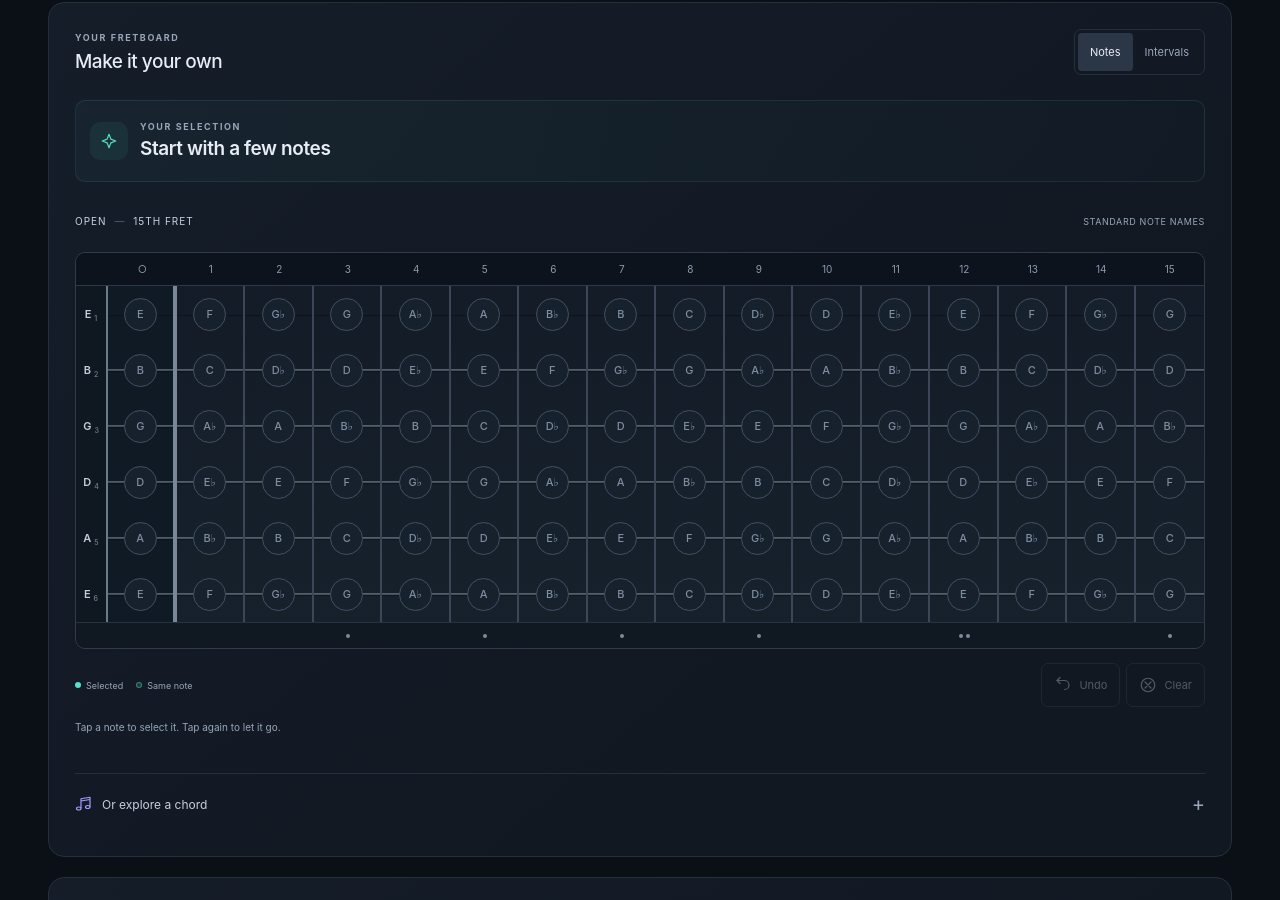
Test case: OS reduced motion prevents GPU initialization while chord selection still works
This screenshot has width=1280, height=900.
(page scrolled)
Click the button named "String 5, A, fret 3, C". click: (348, 538)
box: [314, 510, 382, 566]
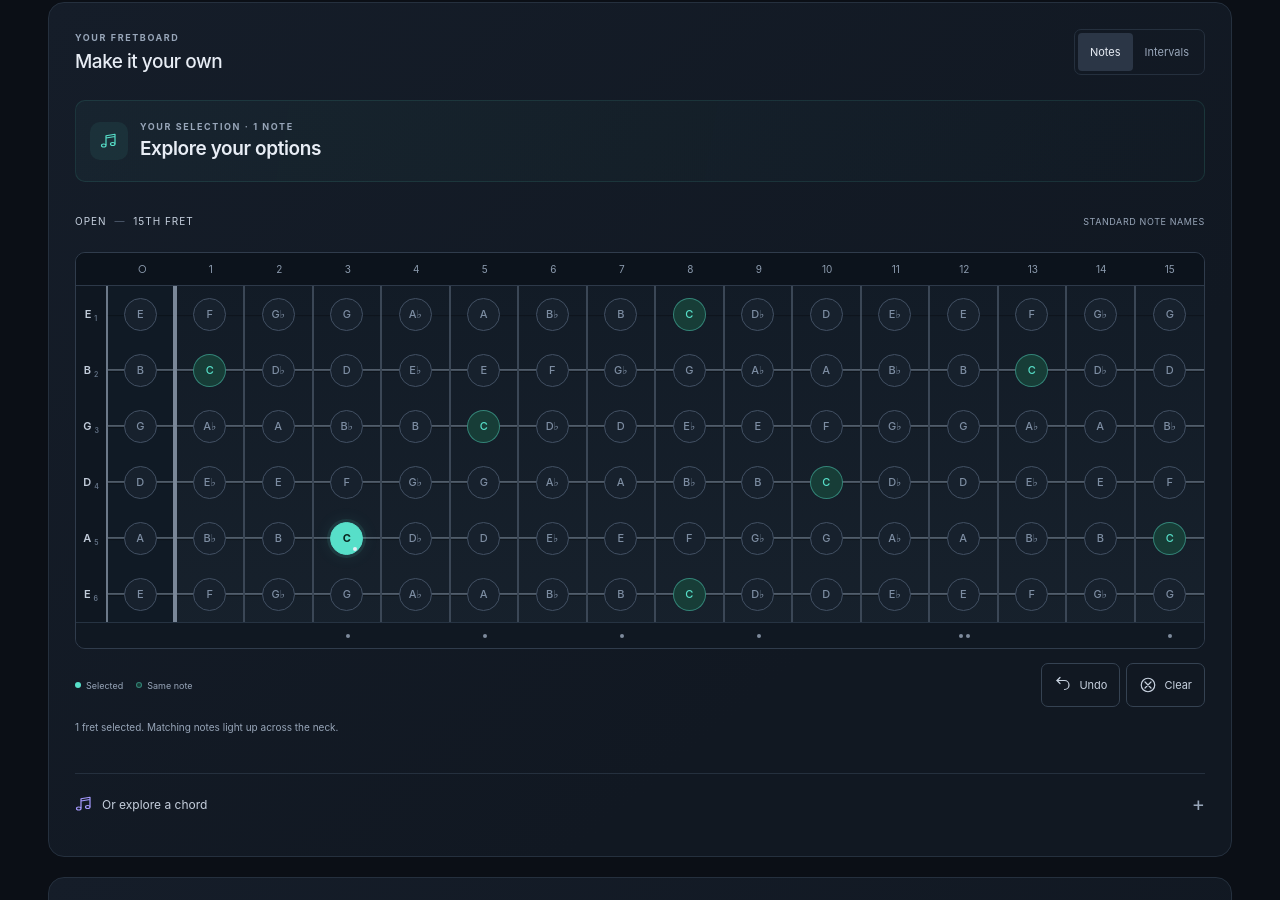
Click the button named "String 4, D, fret 2, E". click: (279, 482)
box: [245, 454, 314, 510]
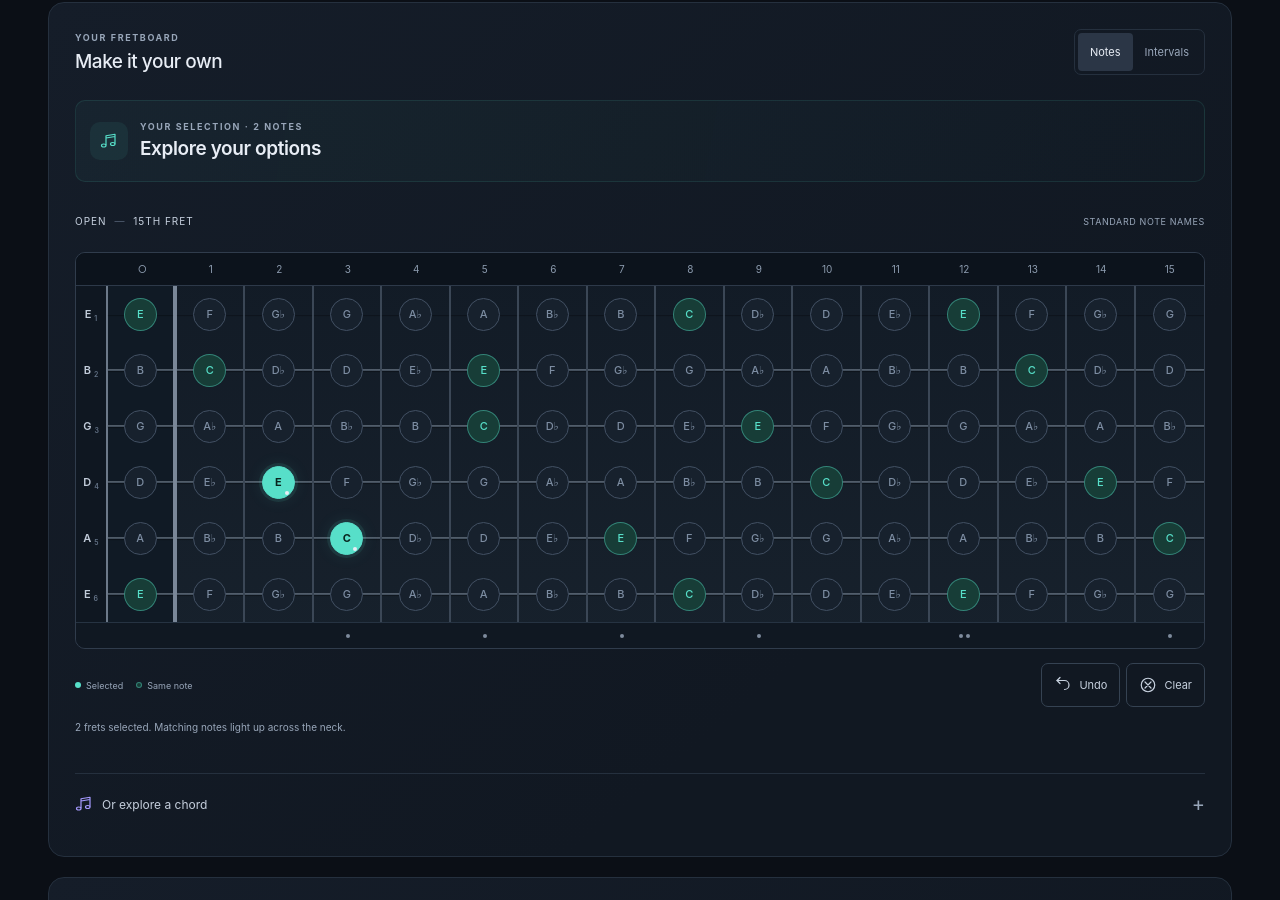
Click the button named "String 3, G, open, G". click: (142, 426)
box: [108, 398, 176, 454]
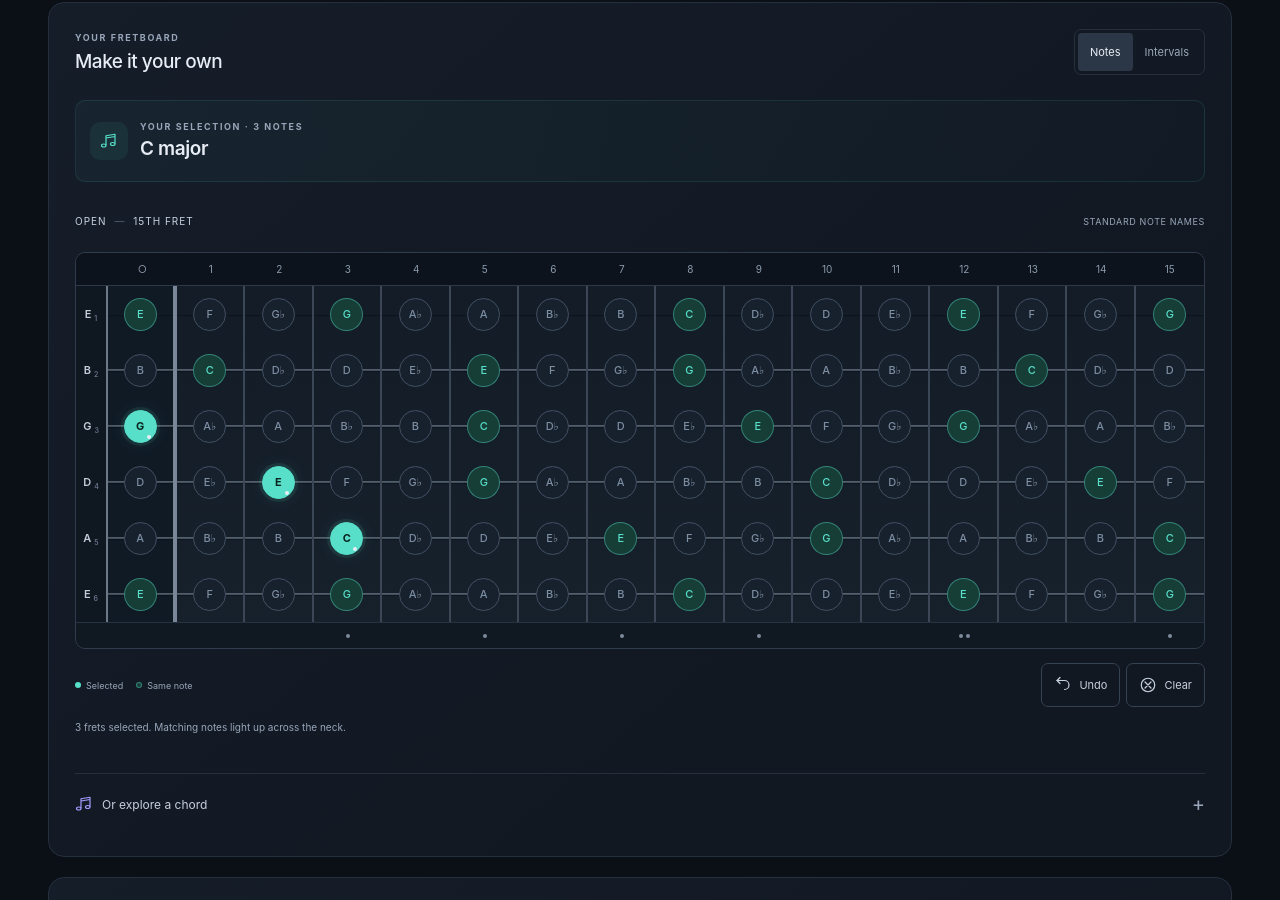
Expected: the message shows "C major", [140, 137, 208, 160]
